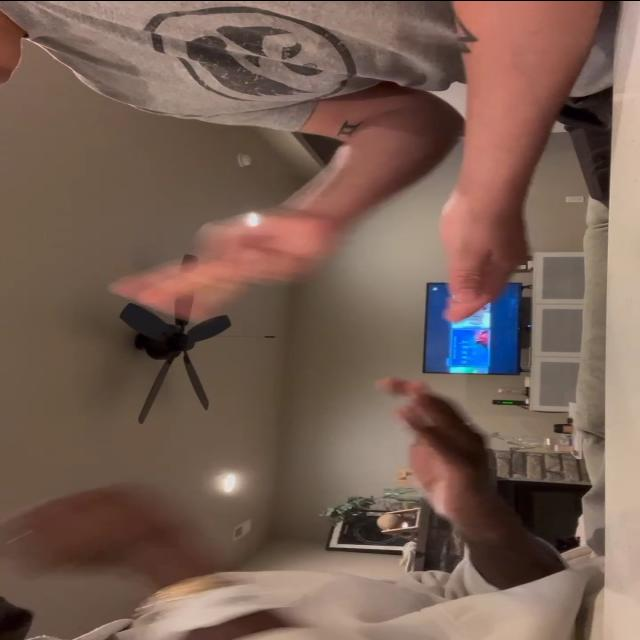Rock: (6, 479, 182, 572)
Scissors: (118, 208, 344, 316)
